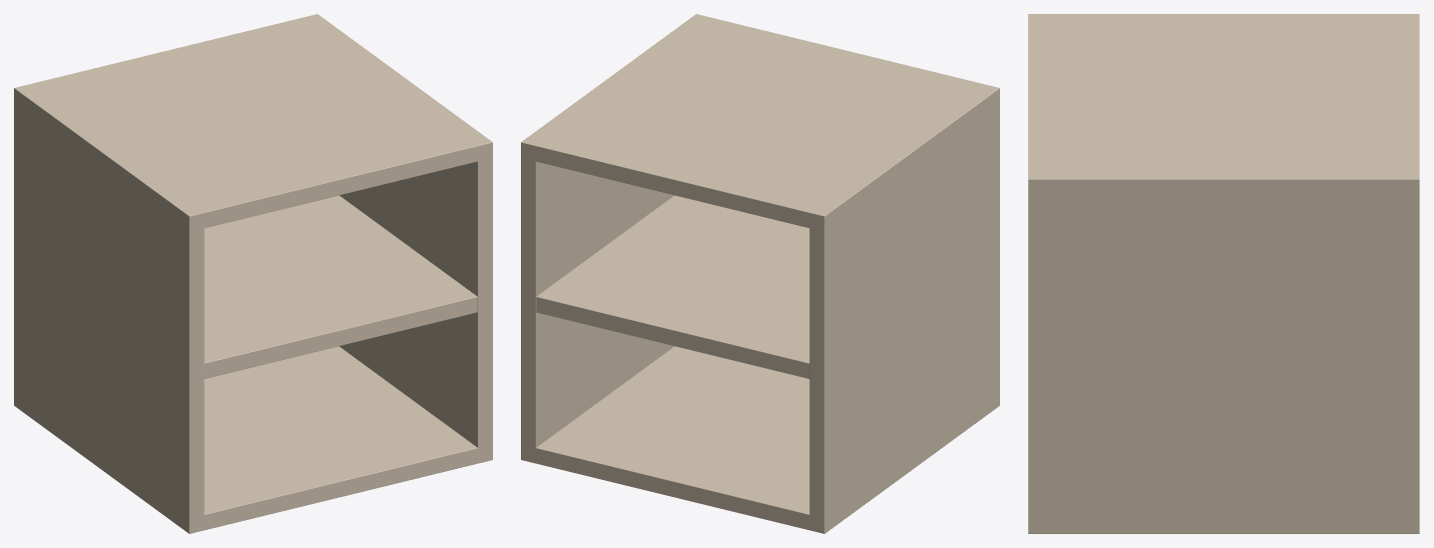
The model's file is MOD-1X1-S-O-AR.glb.
3 views of the same model, side by side, from view 1: azimuth 30°, elevation 25°; view 2: azimuth 150°, elevation 25°; view 3: azimuth 270°, elevation 25° (orthographic). The views are drawn at different scales.
Size of the model in its own units: 360 by 360 by 360.
